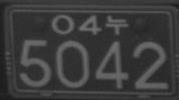0: (55, 40, 90, 88), (51, 13, 74, 35)
2: (133, 40, 168, 90)
4: (95, 40, 129, 89), (78, 14, 102, 35)
5: (19, 38, 52, 88)
누: (105, 14, 129, 34)
